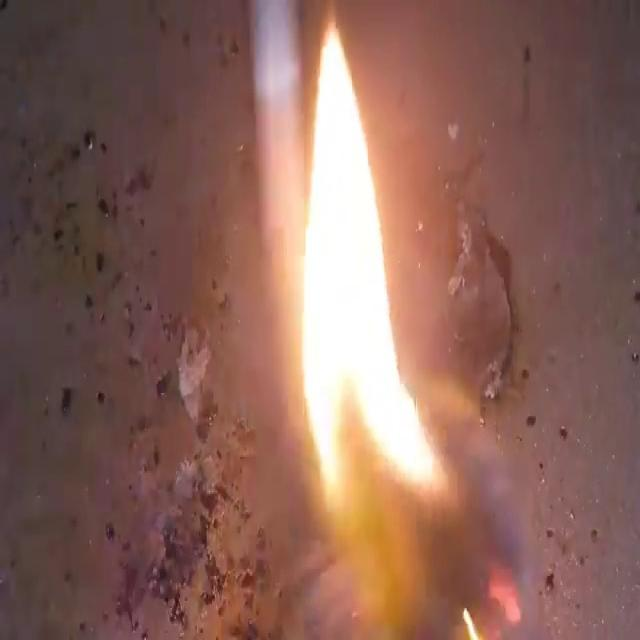Fire: (296, 16, 439, 507)
